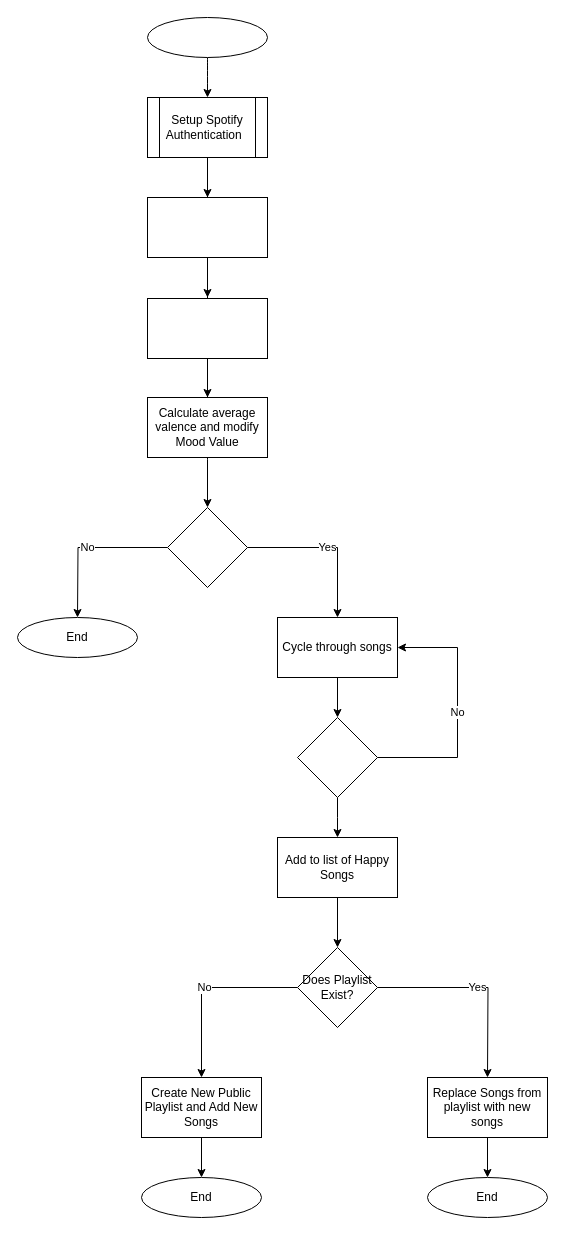
Image size: 565x1235. Some labels were removed from this diagram. The shapes that lost their labels are listed below. From the top down, each one's centre as x and y in pixels, then its label:
At (207,37): "Start".
At (207,227): "Request the Recently Listened to songs".
At (207,328): "Get IDs of songs and fetch valence".
At (207,547): "Front End Program?".
At (337,757): "Song Valence > 0.75".
